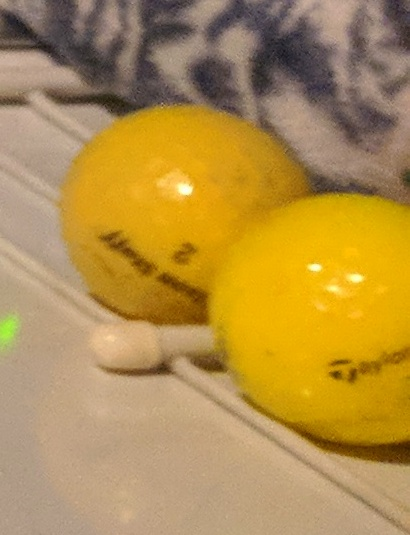ball: (209, 193, 410, 437)
